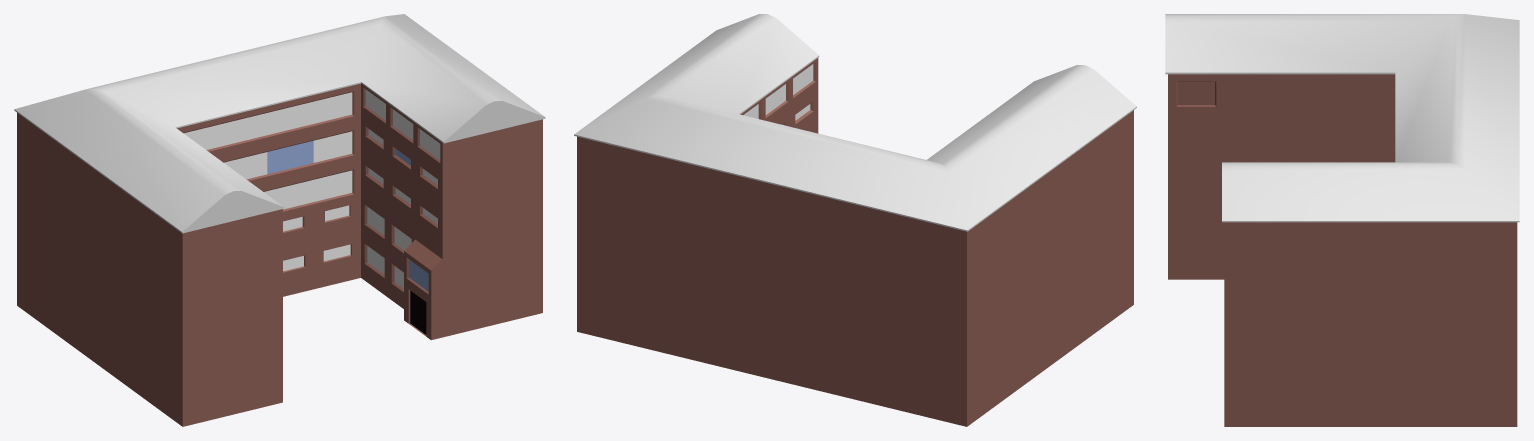
The model's file is Building.FBX.
The picture shows the model from 3 angles, left to right: view 1: azimuth 30°, elevation 25°; view 2: azimuth 150°, elevation 25°; view 3: azimuth 270°, elevation 25°; orthographic projection. The views are drawn at different scales.
Visible parts, largest first — view 1: Building, Katto; view 2: Building, Katto; view 3: Building, Katto, Window.
Boxes of the visible parts, x1,y1,x2,y2 form: Building: (17, 83, 542, 426); Katto: (14, 14, 545, 233); Building: (577, 58, 1133, 426); Katto: (574, 14, 1136, 231); Building: (1168, 74, 1517, 426); Katto: (1165, 14, 1519, 222); Window: (1177, 82, 1214, 105).
Bounding box in the file's own units: 2925 × 1613 × 2181.
